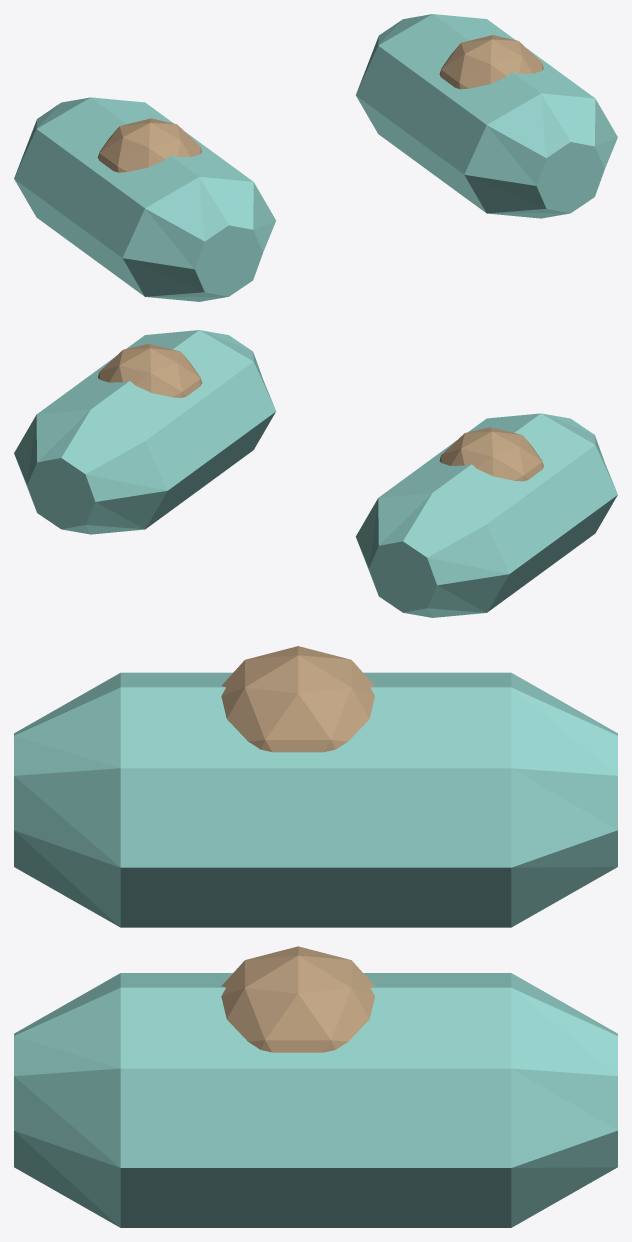
Rendered from upgrade_capacity.glb.
The picture shows the model from 3 angles, top to bottom: view 1: azimuth 30°, elevation 25°; view 2: azimuth 150°, elevation 25°; view 3: azimuth 270°, elevation 25°; orthographic projection. The views are drawn at different scales.
Visible parts, largest first — view 1: capacitor_1, capacitor_-1, cap_1, cap_-1; view 2: capacitor_-1, capacitor_1, cap_1, cap_-1; view 3: capacitor_-1, capacitor_1, cap_-1, cap_1.
Boxes of the visible parts, left/top/right/bottom form: capacitor_1: left=355, top=14, right=617, bottom=218; capacitor_-1: left=14, top=97, right=276, bottom=301; cap_1: left=439, top=35, right=543, bottom=89; cap_-1: left=98, top=118, right=201, bottom=172; capacitor_-1: left=355, top=413, right=617, bottom=617; capacitor_1: left=14, top=330, right=276, bottom=534; cap_1: left=98, top=344, right=202, bottom=397; cap_-1: left=439, top=427, right=543, bottom=481; capacitor_-1: left=14, top=672, right=617, bottom=927; capacitor_1: left=14, top=973, right=617, bottom=1227; cap_-1: left=221, top=646, right=374, bottom=752; cap_1: left=221, top=946, right=374, bottom=1052.
Size of the model in its own units: 2.9 by 0.8 by 1.7.
